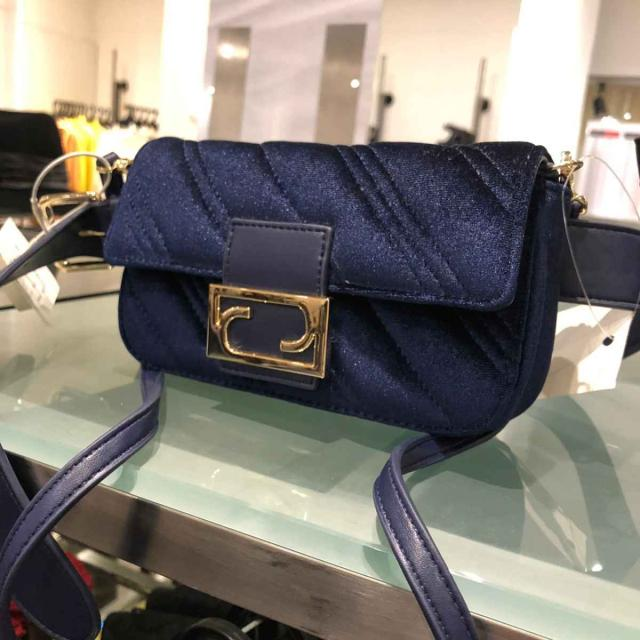handbag: (99, 136, 567, 436)
